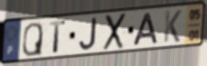A: (132, 12, 159, 47)
J: (78, 16, 98, 52)
K: (162, 9, 183, 44)
Q: (21, 21, 44, 58)
T: (49, 20, 67, 54)
X: (102, 12, 128, 53)
